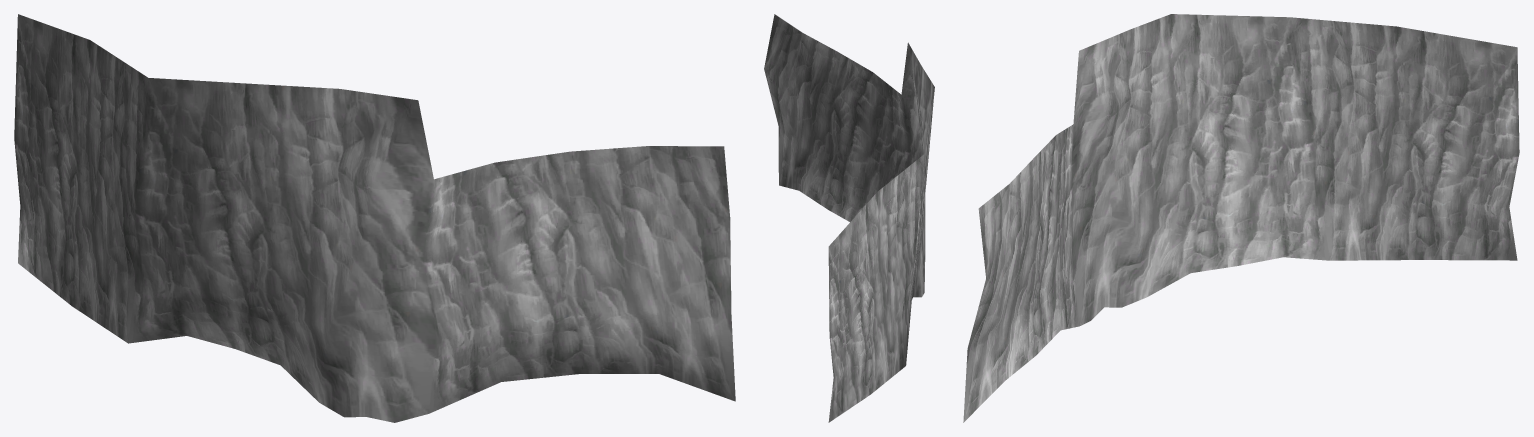
Rendered from SWORDLIGHT20_PS-AREA03_187.fbx.
3 views of the same model, side by side, from view 1: azimuth 30°, elevation 25°; view 2: azimuth 150°, elevation 25°; view 3: azimuth 270°, elevation 25° (orthographic). The views are drawn at different scales.
Parts seen in each view (by area): view 1: SWORDLIGHT20_PS-AREA03_187; view 2: SWORDLIGHT20_PS-AREA03_187; view 3: SWORDLIGHT20_PS-AREA03_187.
Part boxes in pixels (box(x1,y1,x2,y2)): SWORDLIGHT20_PS-AREA03_187: box(14, 14, 735, 422); SWORDLIGHT20_PS-AREA03_187: box(764, 14, 934, 422); SWORDLIGHT20_PS-AREA03_187: box(963, 14, 1519, 422).
Size of the model in its own units: 127536 by 97931 by 177460.
Materials: 1 (1 with a texture image).
